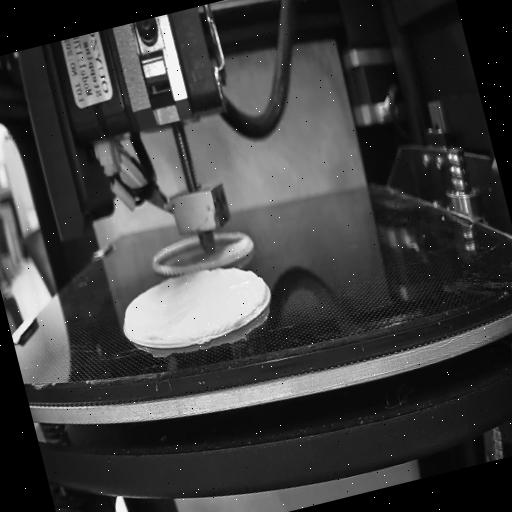over_extrusion: (245, 261, 276, 312)
